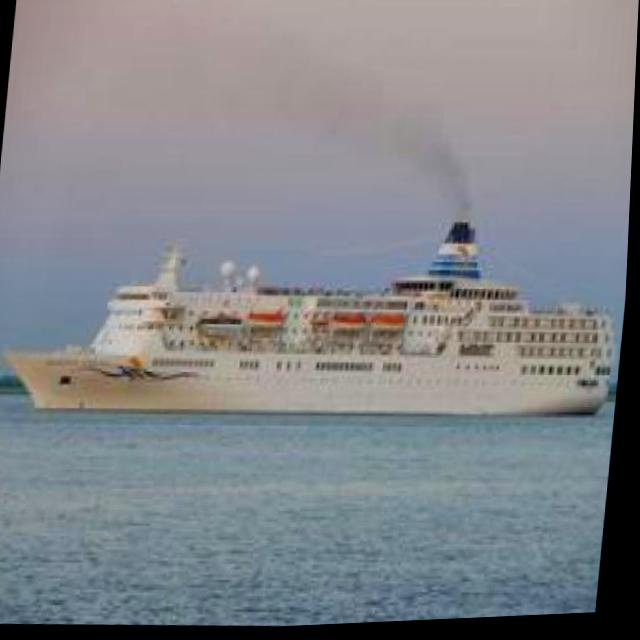ship2: (4, 225, 618, 426)
